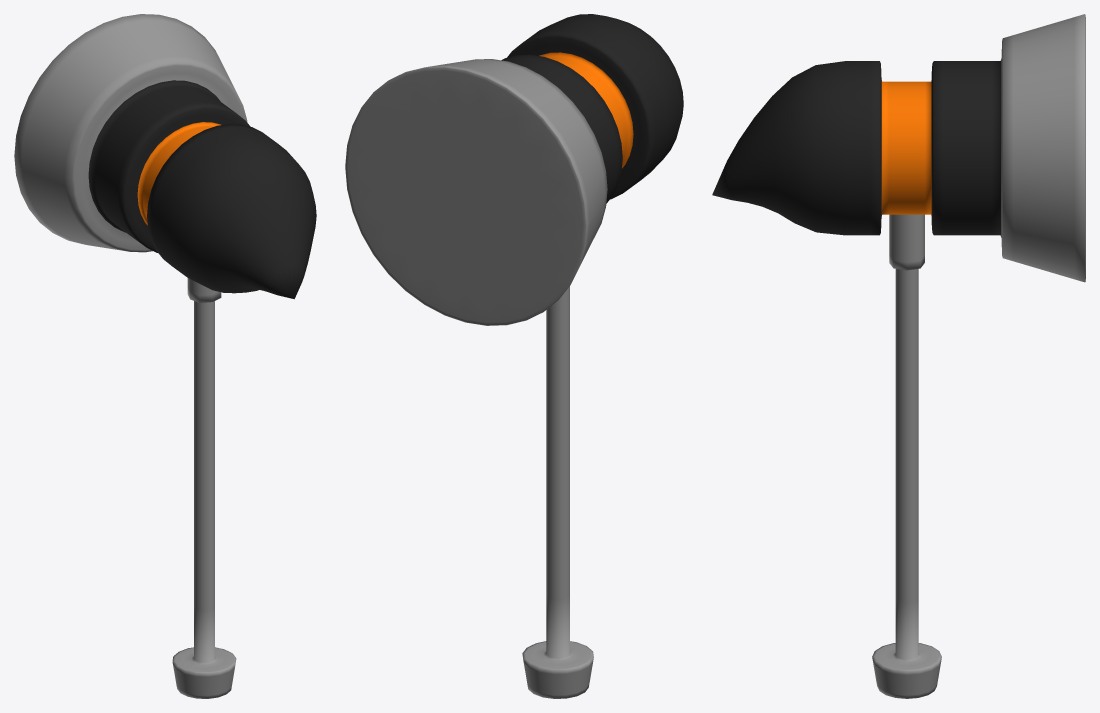
Rendered from stellarForgeWeapon.FBX.
The picture shows the model from 3 angles, left to right: view 1: azimuth 30°, elevation 25°; view 2: azimuth 150°, elevation 25°; view 3: azimuth 270°, elevation 25°; orthographic projection. The views are drawn at different scales.
Visible parts, largest first — view 1: hammerHead; view 2: hammerHead; view 3: hammerHead.
Boxes of the visible parts, x1,y1,x2,y2 form: hammerHead: (14, 14, 316, 698); hammerHead: (345, 14, 683, 698); hammerHead: (712, 14, 1085, 698).
Bounding box in the file's own units: 75.32 × 204 × 104.
